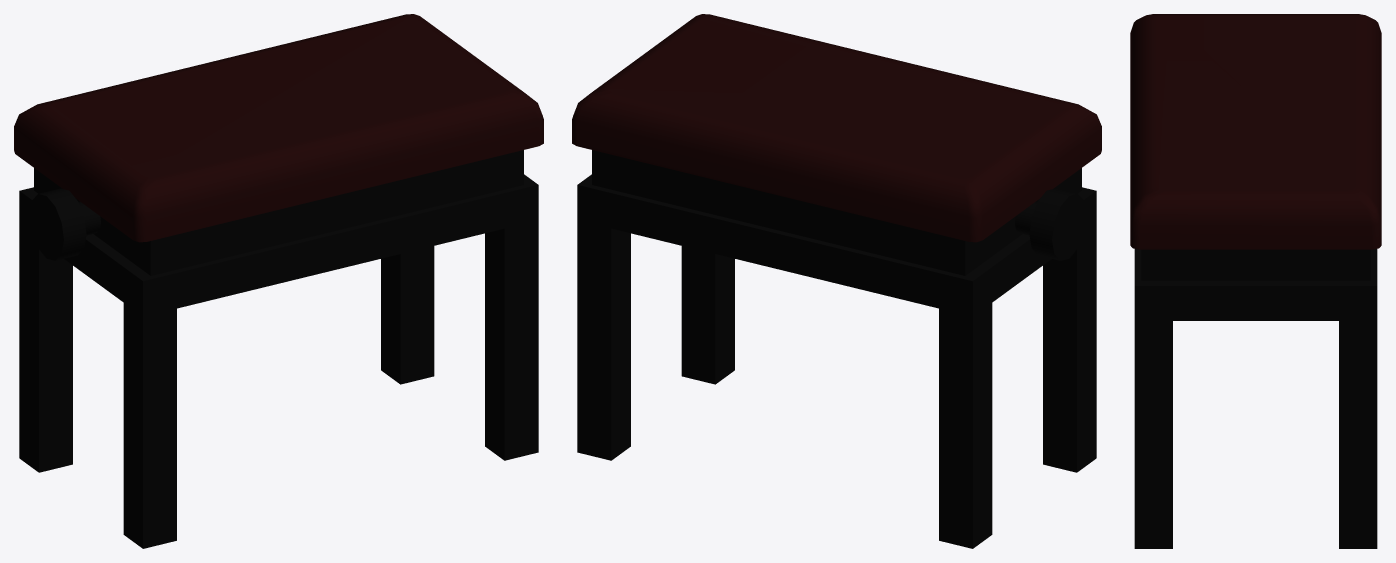
The model's file is PianoChair.fbx.
3 views of the same model, side by side, from view 1: azimuth 30°, elevation 25°; view 2: azimuth 150°, elevation 25°; view 3: azimuth 270°, elevation 25° (orthographic).
Visible parts, largest first — view 1: PianoChair; view 2: PianoChair; view 3: PianoChair.
Part boxes in pixels (bbox=[...]): PianoChair: bbox=[14, 14, 543, 548]; PianoChair: bbox=[572, 14, 1101, 548]; PianoChair: bbox=[1130, 14, 1381, 548].
Size of the model in its own units: 0.0258 by 0.0201 by 0.0131.
